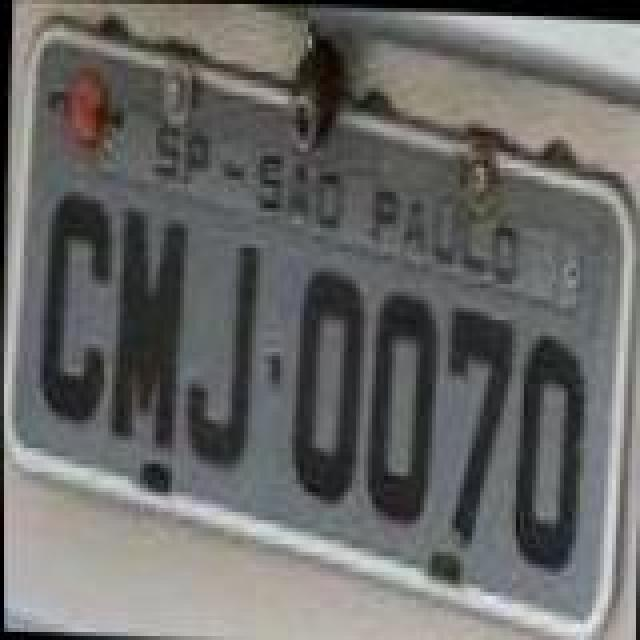7: (436, 300, 512, 548)
C: (34, 188, 114, 428)
J: (178, 234, 254, 466)
M: (106, 204, 186, 452)
O: (506, 322, 586, 570), (288, 264, 368, 504), (360, 286, 440, 526)
